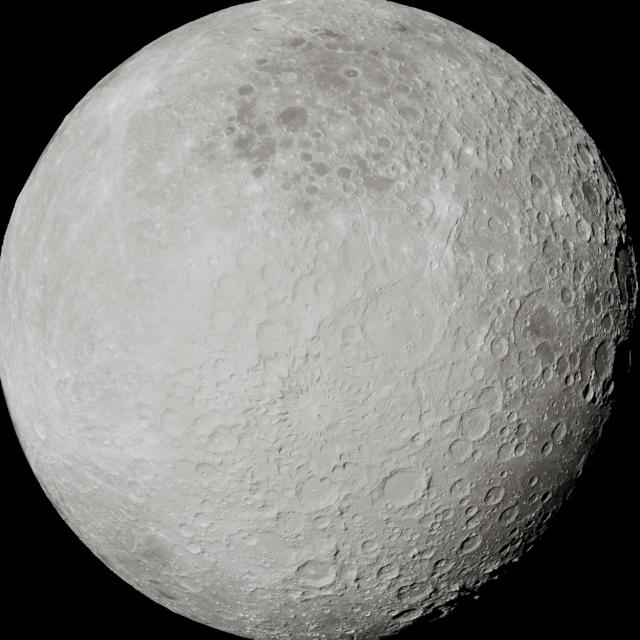crater: (612, 240, 636, 312), (592, 338, 618, 378), (397, 582, 434, 608), (389, 606, 424, 626), (459, 534, 482, 558), (480, 486, 507, 506), (572, 218, 593, 242), (576, 145, 595, 169), (500, 506, 520, 527), (583, 384, 597, 404), (559, 286, 573, 306), (535, 211, 548, 228), (540, 368, 552, 384), (563, 376, 574, 386)
